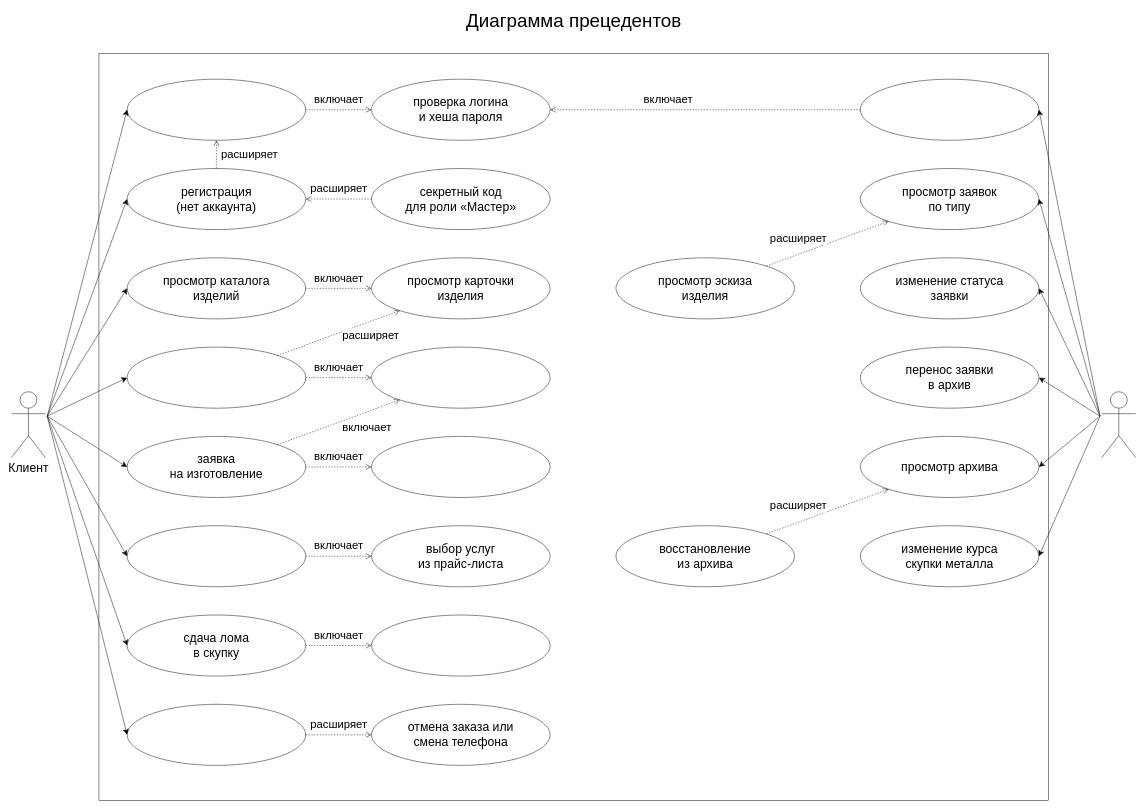
This 1148x809 diagram has some shape labels left out. Each missing label, with the box of its shape:
бронирование изделия: (127, 347, 306, 408)
ввод и проверка номера телефона: (371, 347, 550, 408)
вход в рабочее место мастера: (860, 79, 1039, 140)
вход в систему: (127, 79, 306, 140)
выбор металла, камня и эскиза: (371, 436, 550, 497)
заявка на ремонт: (127, 525, 306, 587)
Мастер: (1101, 391, 1136, 458)
просмотр истории заказов: (127, 704, 306, 765)
расчёт выплаты по весу и курсу: (371, 615, 550, 676)
